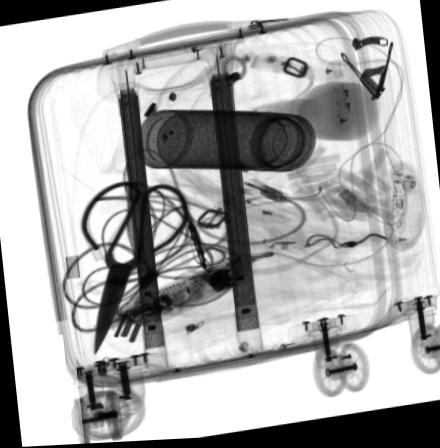Knife: (164, 163, 209, 274)
Scissors: (80, 181, 189, 358)
